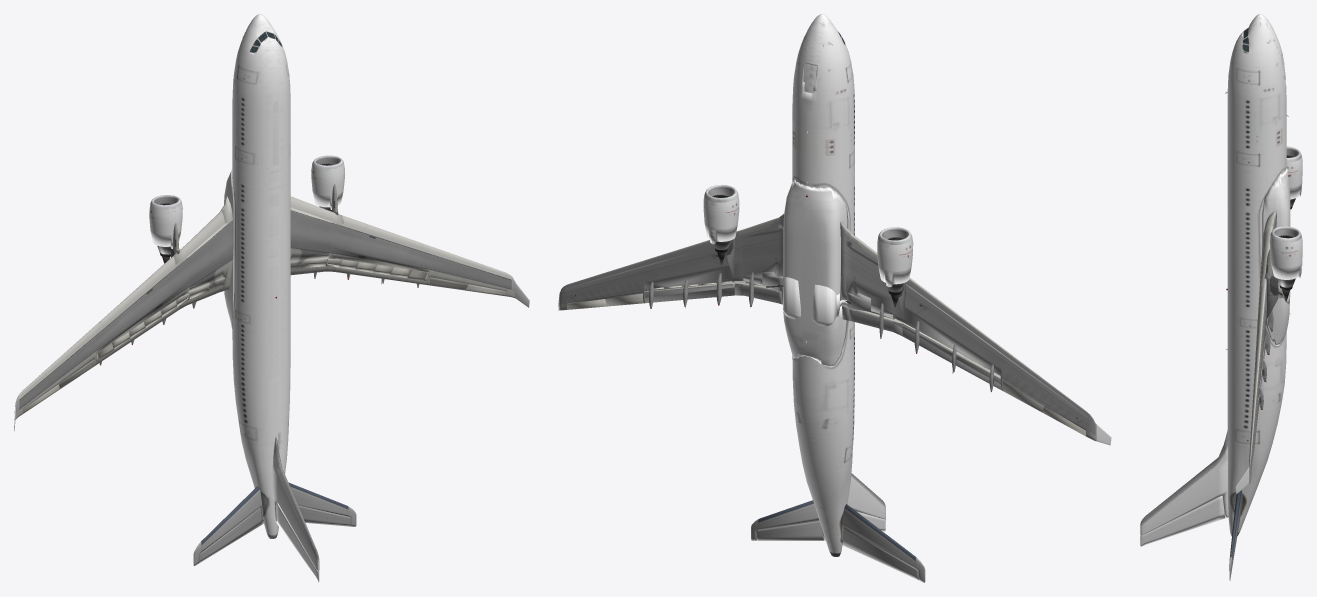
3 views of the same model, side by side, from view 1: azimuth 30°, elevation 25°; view 2: azimuth 150°, elevation 25°; view 3: azimuth 270°, elevation 25° (orthographic). The views are drawn at different scales.
Visible parts, largest first — view 1: fuselage_003, cylinder_006, cylinder_004, wing_in0_001, hstab, wing_in1_001, vstab, cylinder_002, cylinder_001, elevator0, slat_out0_001, ge_nacelle1 (+5 smaller); view 2: fuselage_003, bellyfairing, cylinder_004, cylinder_006, hstab, wing_in0_001, cylinder_001, cylinder_002, wing_in1_001, elevator0, elevator1, vstab (+5 smaller); view 3: fuselage_003, vstab, bellyfairing, rudder, ge_nacelle1, cylinder_006, ge_pylon1, hstab, slat_out1_001, ge_rim1, ge_nacelle0, ge_reverser1 (+6 smaller).
Part boxes in pixels (x1=…): fuselage_003: x1=232, y1=24, x2=290, y2=538; cylinder_006: x1=328, y1=211, x2=429, y2=284; cylinder_004: x1=94, y1=247, x2=190, y2=365; wing_in0_001: x1=186, y1=196, x2=233, y2=292; hstab: x1=193, y1=482, x2=356, y2=566; wing_in1_001: x1=290, y1=206, x2=332, y2=261; vstab: x1=272, y1=436, x2=319, y2=571; cylinder_002: x1=428, y1=252, x2=515, y2=298; cylinder_001: x1=15, y1=334, x2=96, y2=419; elevator0: x1=199, y1=507, x2=261, y2=563; slat_out0_001: x1=94, y1=256, x2=175, y2=333; ge_nacelle1: x1=311, y1=164, x2=344, y2=195; fuselage_003: x1=792, y1=25, x2=854, y2=556; bellyfairing: x1=783, y1=179, x2=848, y2=367; cylinder_004: x1=893, y1=279, x2=1001, y2=390; cylinder_006: x1=644, y1=231, x2=743, y2=303; hstab: x1=751, y1=500, x2=925, y2=582; wing_in0_001: x1=840, y1=221, x2=892, y2=320; cylinder_001: x1=1001, y1=349, x2=1096, y2=441; cylinder_002: x1=559, y1=261, x2=644, y2=310; wing_in1_001: x1=739, y1=214, x2=783, y2=304; elevator0: x1=842, y1=527, x2=918, y2=579; elevator1: x1=756, y1=520, x2=823, y2=540; vstab: x1=847, y1=473, x2=885, y2=519; fuselage_003: x1=1227, y1=25, x2=1286, y2=536; vstab: x1=1140, y1=430, x2=1228, y2=535; bellyfairing: x1=1262, y1=167, x2=1290, y2=345; rudder: x1=1140, y1=495, x2=1225, y2=546; ge_nacelle1: x1=1269, y1=236, x2=1302, y2=268; cylinder_006: x1=1254, y1=271, x2=1267, y2=409; ge_pylon1: x1=1264, y1=249, x2=1278, y2=318; hstab: x1=1229, y1=490, x2=1242, y2=580; slat_out1_001: x1=1254, y1=282, x2=1266, y2=375; ge_rim1: x1=1270, y1=226, x2=1301, y2=242; ge_nacelle0: x1=1286, y1=156, x2=1302, y2=187; ge_reverser1: x1=1271, y1=263, x2=1302, y2=279.
Bounding box in the file's own units: 59.91 × 58.36 × 16.13.
Materials: 19 (15 with a texture image).
